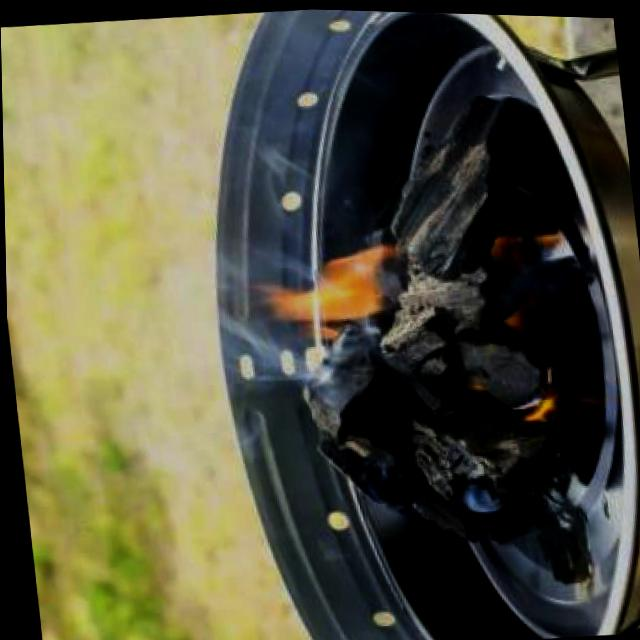helmet: (244, 216, 414, 339)
